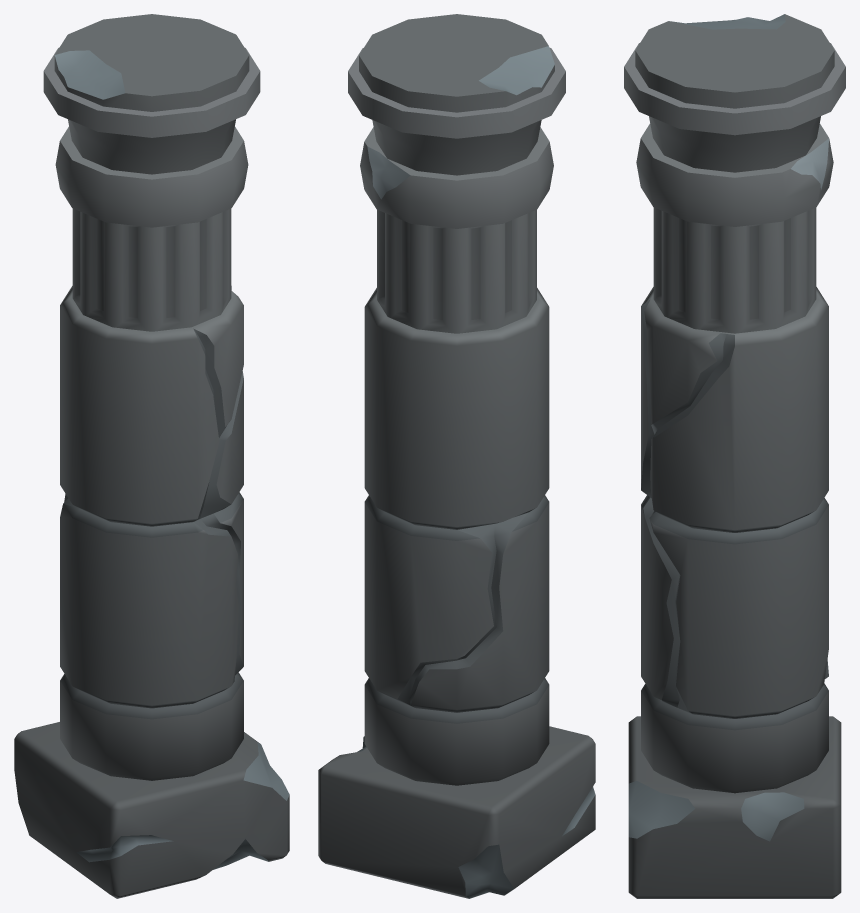
Rendered from column_001.glb.
3 views of the same model, side by side, from view 1: azimuth 30°, elevation 25°; view 2: azimuth 150°, elevation 25°; view 3: azimuth 270°, elevation 25° (orthographic). The views are drawn at different scales.
Parts seen in each view (by area): view 1: column_001; view 2: column_001; view 3: column_001.
Boxes of the visible parts, bbox=[...] form: column_001: bbox=[14, 14, 289, 898]; column_001: bbox=[318, 14, 595, 898]; column_001: bbox=[624, 14, 845, 898].
Size of the model in its own units: 3.96 by 15.91 by 3.96.
Materials: 1 (1 with a texture image).
